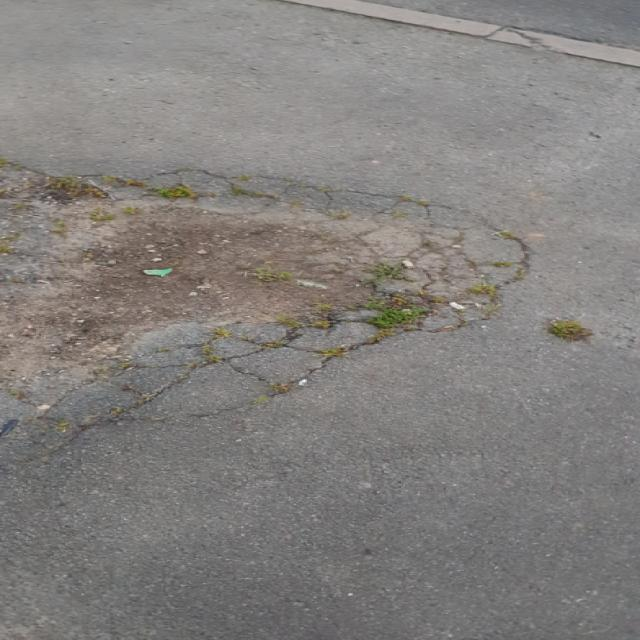Pothole: (1, 175, 483, 417)
